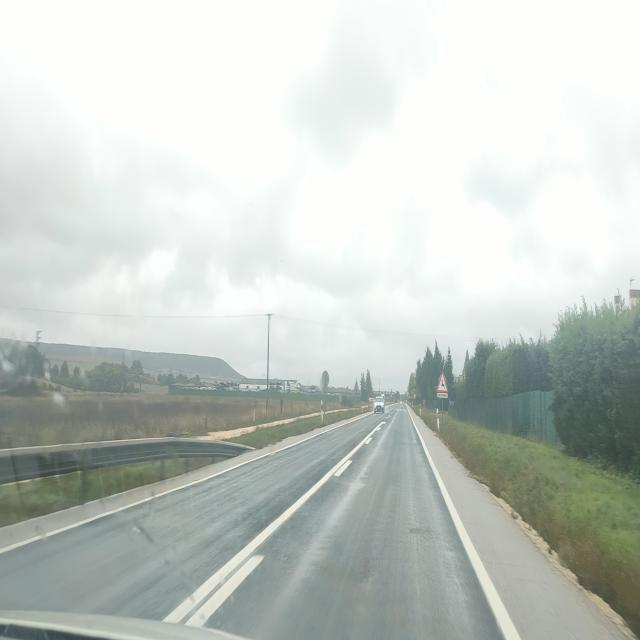Poth-hole: (399, 522, 427, 546)
